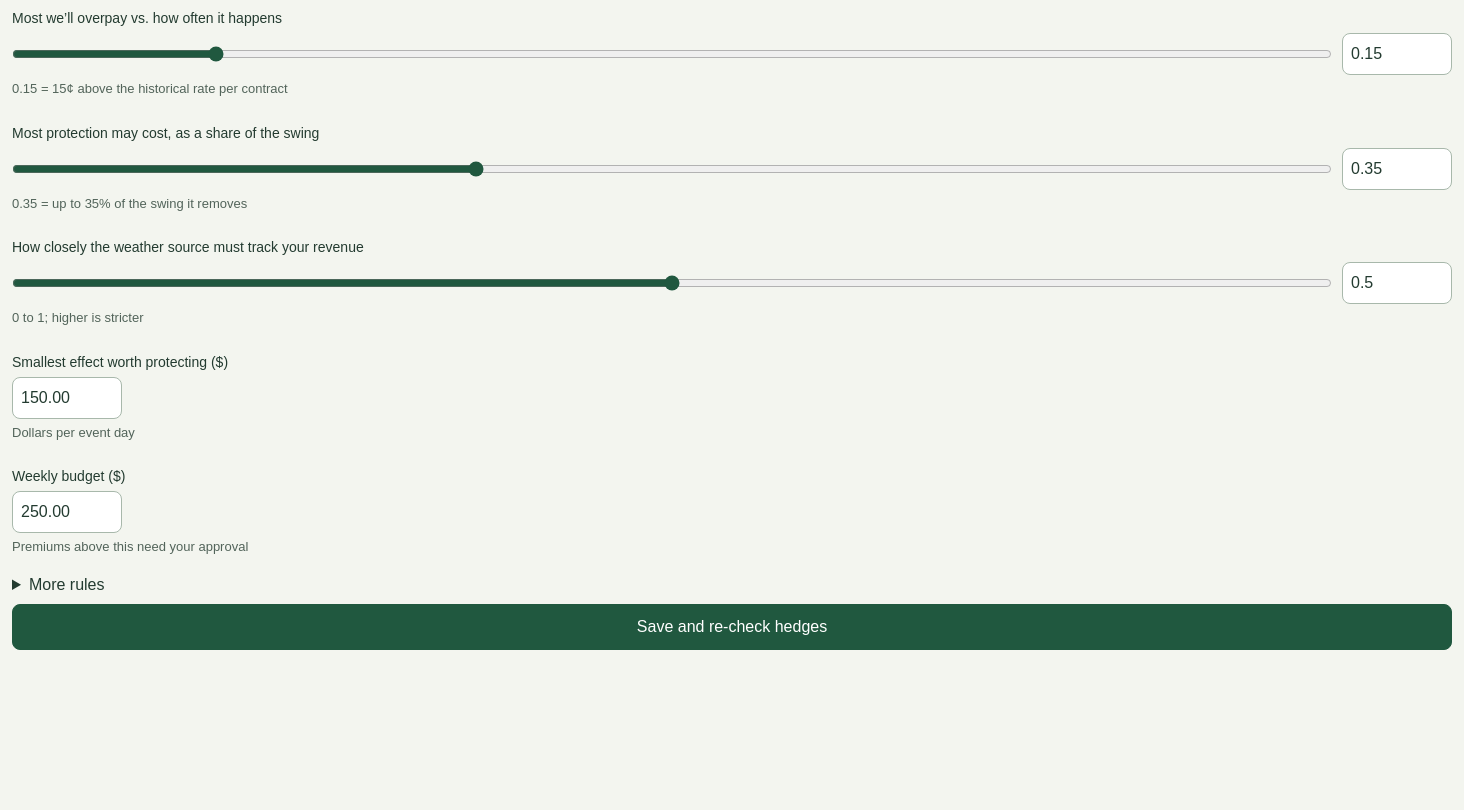
Test: C7-A19 settings validation › disables Save for {} =
This screenshot has width=1464, height=810.
Expected: the button "Save and re-check hedges" is enabled, 12,604 -> 1452,650
Clear the field labelled "Most we’ll overpay vs. how often it happens" at (1397, 54), box 1342,33 -> 1452,75
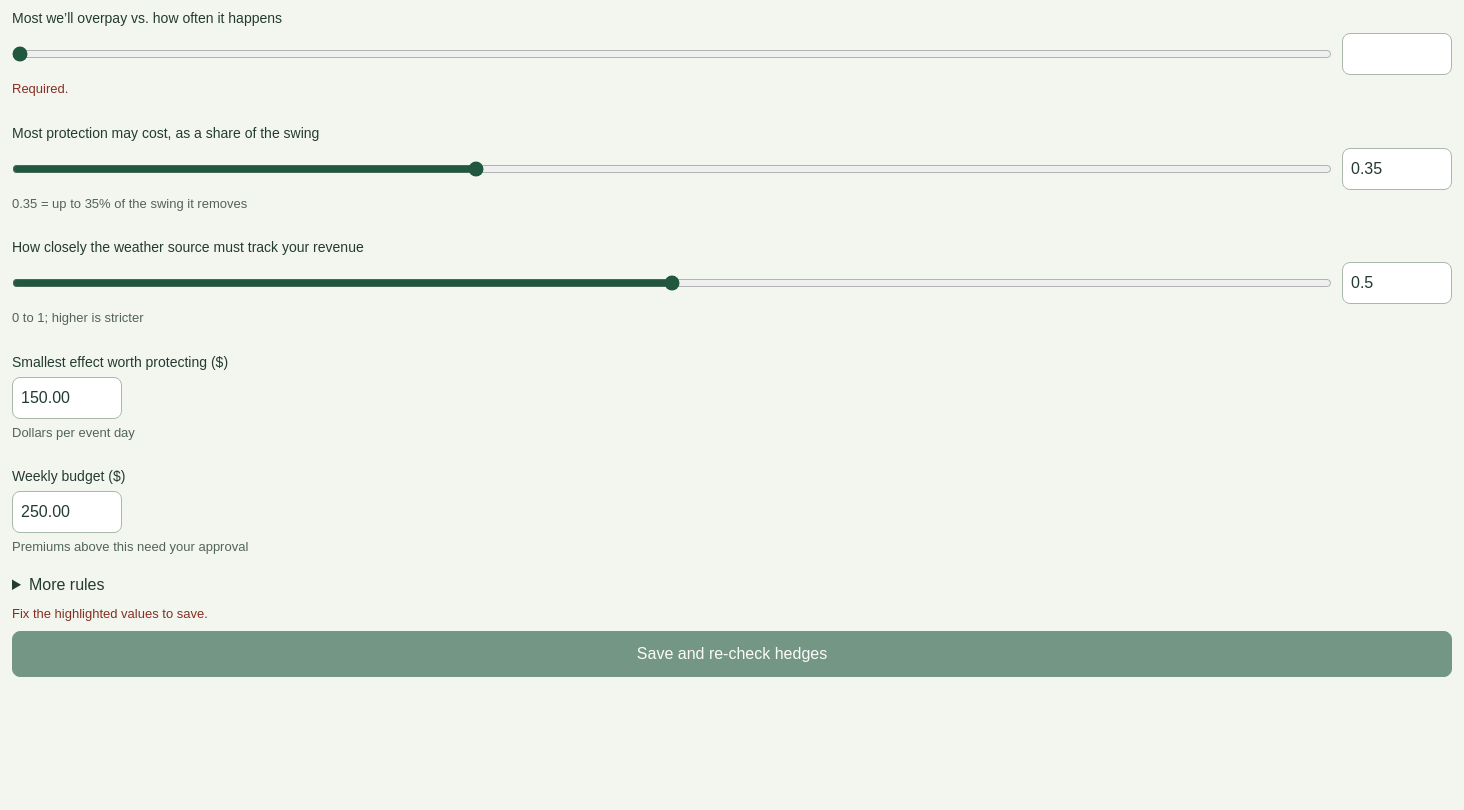
Expected: the button "Save and re-check hedges" is disabled, 12,631 -> 1452,677
Expected: the text "Required." is shown, 12,81 -> 68,96
